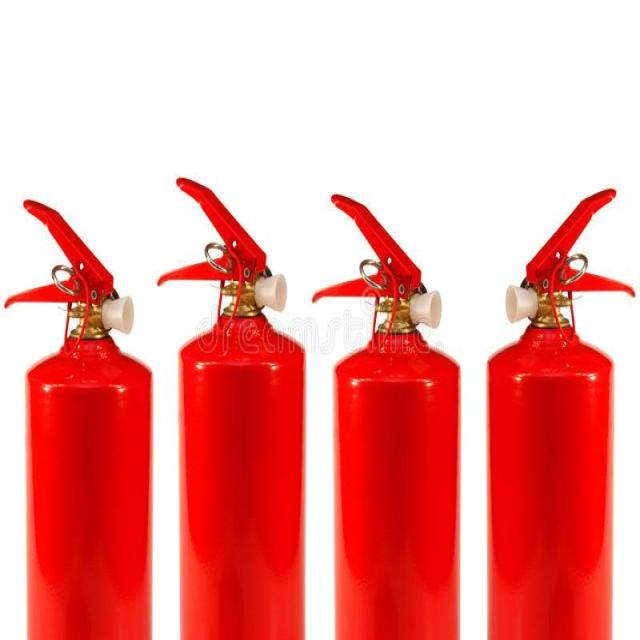fire_extinguisher: (150, 170, 312, 639), (479, 180, 639, 639), (308, 186, 470, 639), (1, 192, 160, 639)
